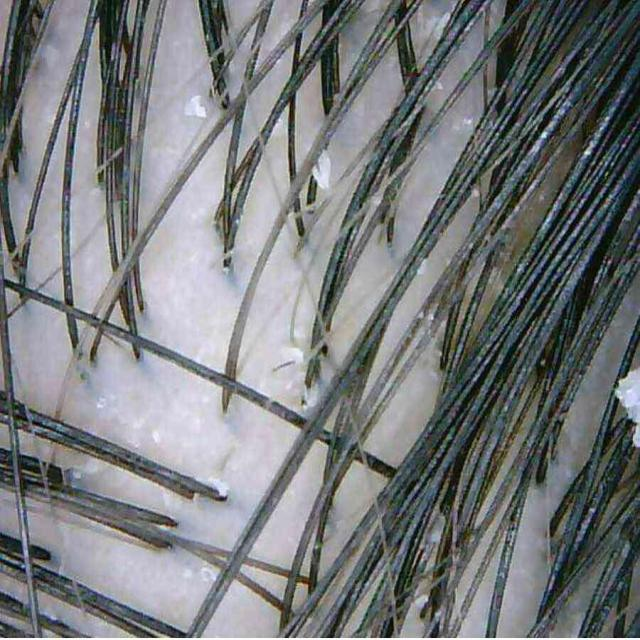d: (616, 367, 640, 447), (271, 346, 304, 371), (312, 151, 331, 190), (184, 95, 206, 117)
